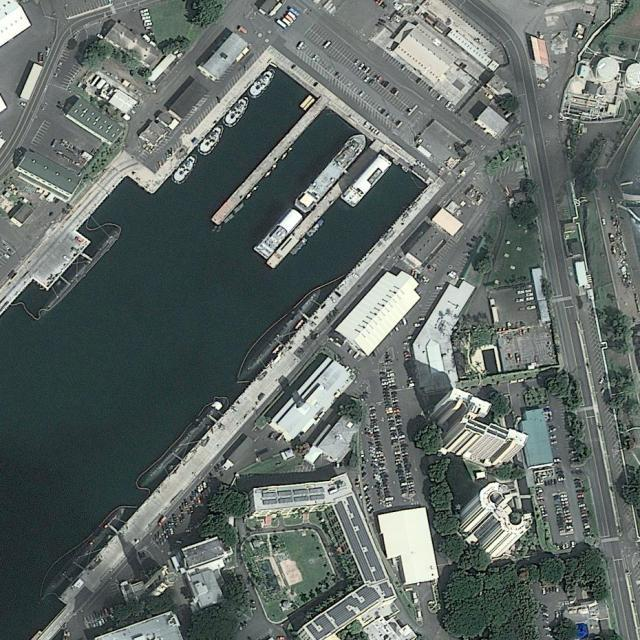Dock: (211, 100, 326, 225), (265, 144, 379, 268)
Hovercraft: (220, 94, 253, 129), (169, 150, 201, 186), (194, 122, 227, 156), (246, 66, 279, 98)
Other Ship: (294, 130, 370, 215)
Submarine: (240, 284, 324, 376), (36, 227, 121, 317), (43, 504, 125, 595), (144, 396, 225, 483)
